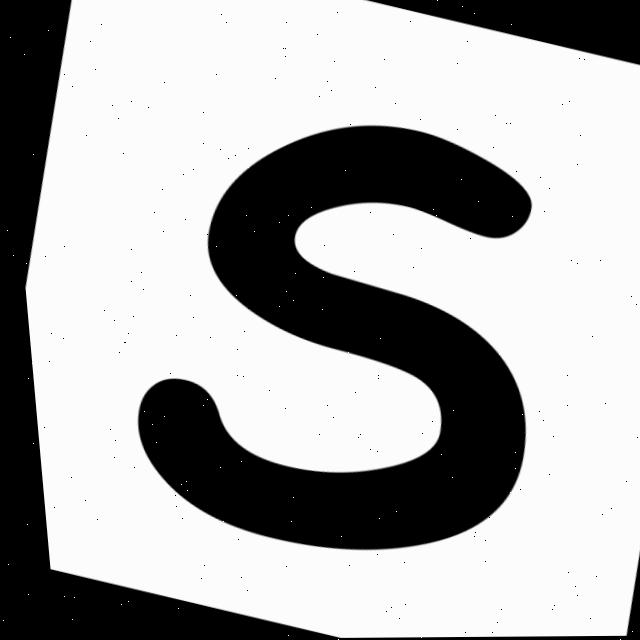S: (130, 126, 526, 550)
